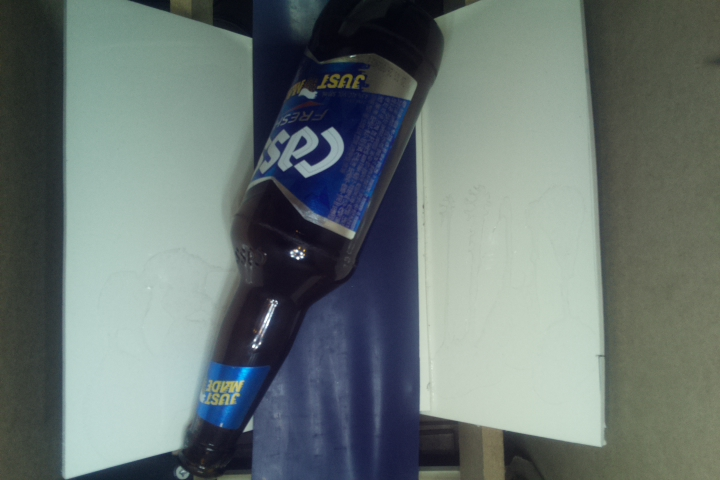makju: (170, 1, 448, 475)
